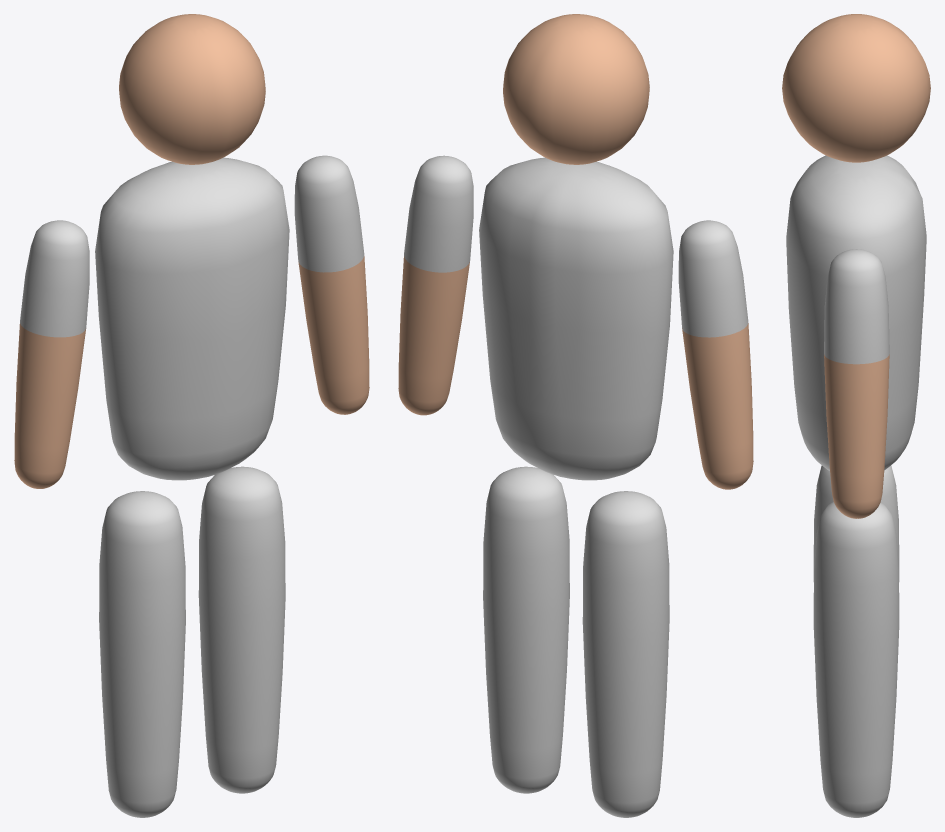
Rendered from Hooman.fbx.
3 renders of one model, left to right at view 1: azimuth 30°, elevation 25°; view 2: azimuth 150°, elevation 25°; view 3: azimuth 270°, elevation 25°, orthographic.
Visible parts, largest first — view 1: Cube; view 2: Cube; view 3: Cube.
Part boxes in pixels (box(x1,y1,x2,y2)): Cube: box(14, 14, 369, 817); Cube: box(398, 14, 753, 817); Cube: box(782, 14, 930, 817).
Size of the model in its own units: 84.7 by 182 by 31.84.
